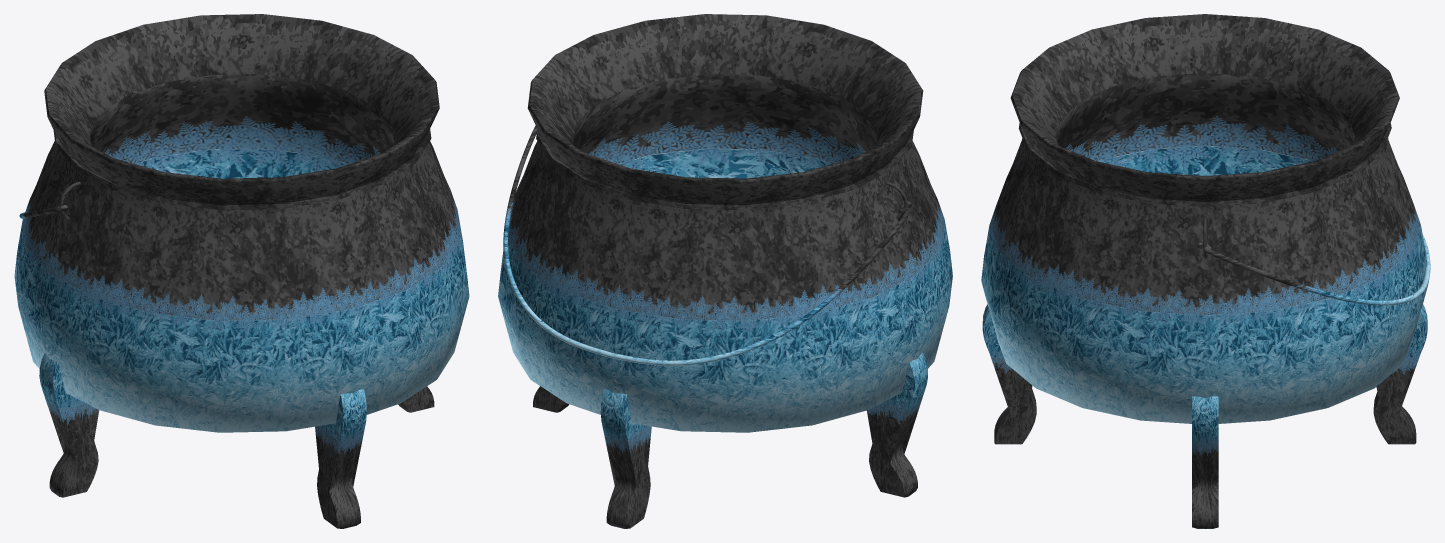
Rendered from BurnCauldron.fbx.
3 views of the same model, side by side, from view 1: azimuth 30°, elevation 25°; view 2: azimuth 150°, elevation 25°; view 3: azimuth 270°, elevation 25° (orthographic). The views are drawn at different scales.
Parts seen in each view (by area): view 1: pSphere1, polySurface4, polySurface5, polySurface6; view 2: pSphere1, polySurface7, polySurface5, pCylinder5, polySurface6; view 3: pSphere1, polySurface6, polySurface4, polySurface7, pCylinder5.
Boxes of the visible parts, left/top/right/bottom form: pSphere1: left=14, top=14, right=469, bottom=432; polySurface4: left=315, top=389, right=366, bottom=528; polySurface5: left=39, top=353, right=99, bottom=497; polySurface6: left=398, top=386, right=434, bottom=412; pSphere1: left=498, top=14, right=952, bottom=432; polySurface7: left=600, top=389, right=651, bottom=528; polySurface5: left=867, top=353, right=927, bottom=497; pCylinder5: left=503, top=125, right=911, bottom=365; polySurface6: left=533, top=386, right=568, bottom=412; pSphere1: left=981, top=14, right=1428, bottom=423; polySurface6: left=1192, top=396, right=1218, bottom=528; polySurface4: left=982, top=304, right=1036, bottom=444; polySurface7: left=1373, top=304, right=1427, bottom=444; pCylinder5: left=1197, top=234, right=1430, bottom=305.
Bounding box in the file's own units: 11.31 × 9.59 × 11.35.
